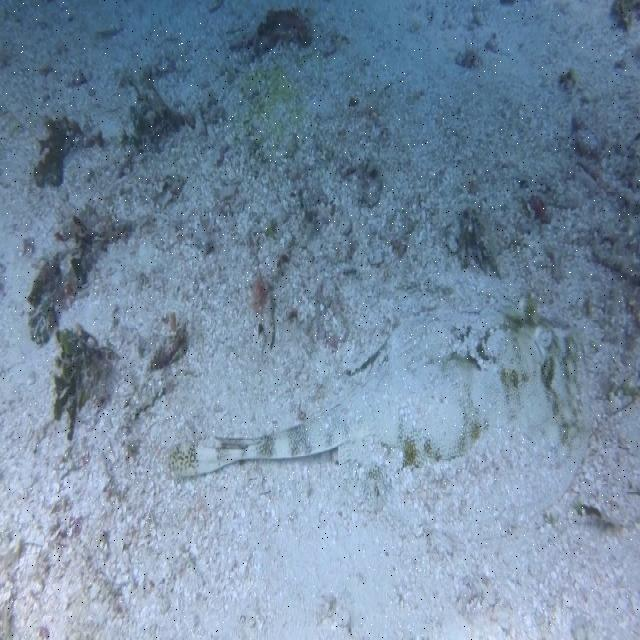fish: (163, 296, 595, 543)
